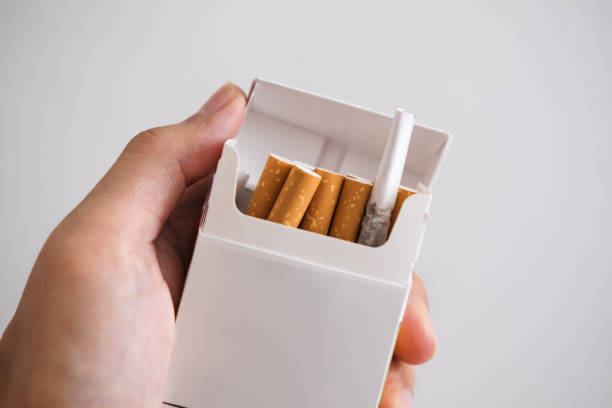cigarette: (159, 75, 455, 408), (359, 106, 417, 247), (266, 163, 322, 228), (245, 150, 295, 219), (299, 165, 344, 238), (328, 175, 373, 243), (387, 185, 419, 241)
